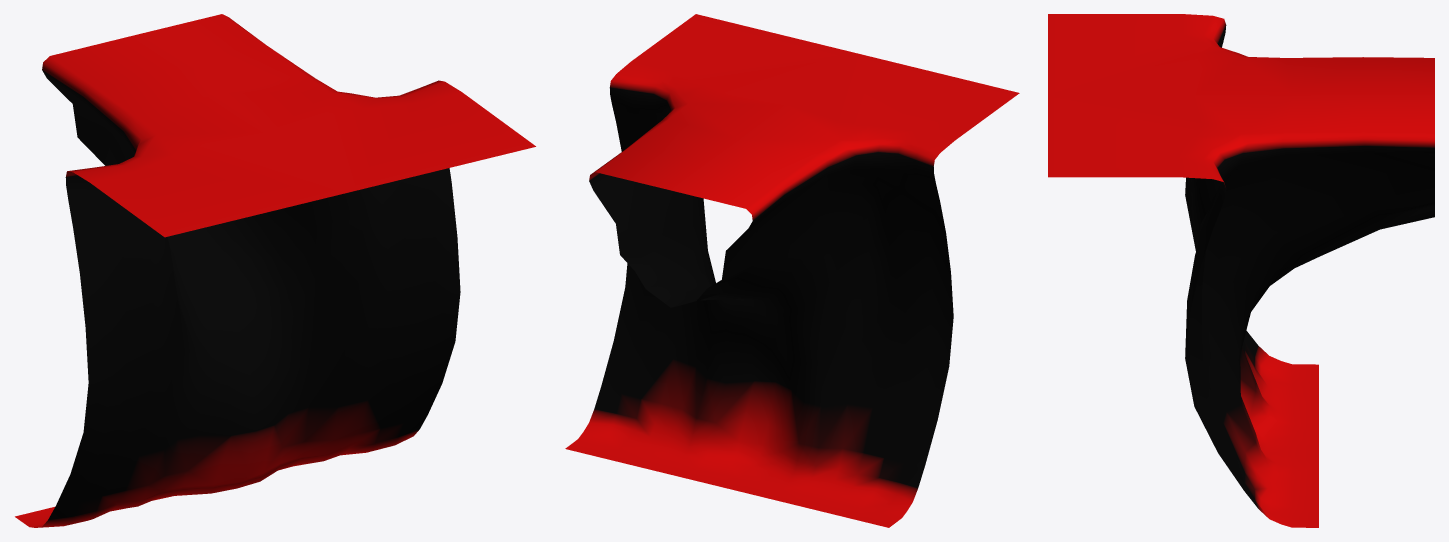
File: CrossingCliff02A 2M Background.fbx
3 renders of one model, left to right at view 1: azimuth 30°, elevation 25°; view 2: azimuth 150°, elevation 25°; view 3: azimuth 270°, elevation 25°, orthographic. The views are drawn at different scales.
Visible parts, largest first — view 1: CrossingCliff02A 2M Background; view 2: CrossingCliff02A 2M Background; view 3: CrossingCliff02A 2M Background.
Boxes of the visible parts, left/top/right/bottom form: CrossingCliff02A 2M Background: left=15, top=14, right=535, bottom=527; CrossingCliff02A 2M Background: left=565, top=14, right=1019, bottom=527; CrossingCliff02A 2M Background: left=1048, top=14, right=1434, bottom=527.
Bounding box in the file's own units: 2 × 2.01 × 2.
